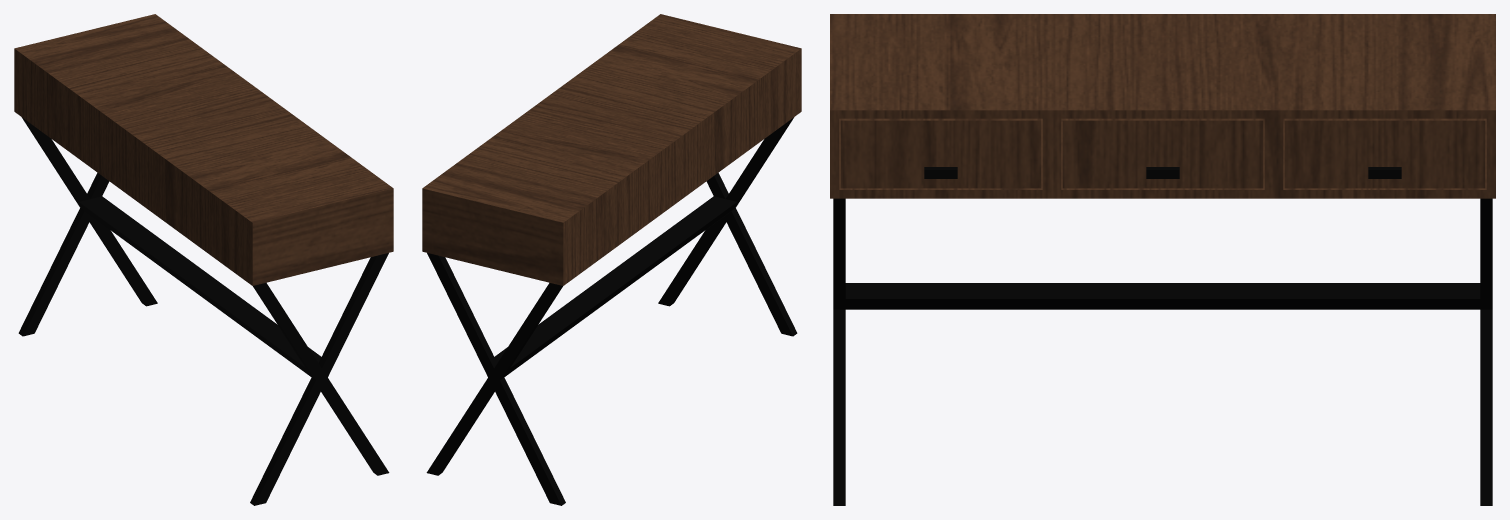
File: Side Table 4.glb
3 renders of one model, left to right at view 1: azimuth 30°, elevation 25°; view 2: azimuth 150°, elevation 25°; view 3: azimuth 270°, elevation 25°, orthographic. The views are drawn at different scales.
Visible parts, largest first — view 1: Side Table 5; view 2: Side Table 5; view 3: Side Table 5.
Boxes of the visible parts, x1,y1,x2,y2 form: Side Table 5: (14,14,393,505); Side Table 5: (422,14,801,505); Side Table 5: (830,14,1495,505).
Size of what is drawn, in the model's own units: 0.6289 by 1.18 by 1.78.
2 materials, 2 textured.
